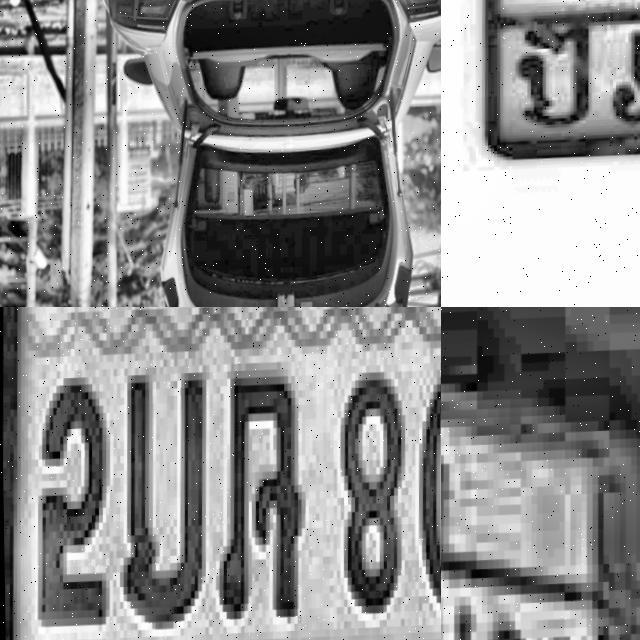license-plate: (0, 307, 441, 640), (441, 307, 640, 640), (470, 0, 640, 186)
